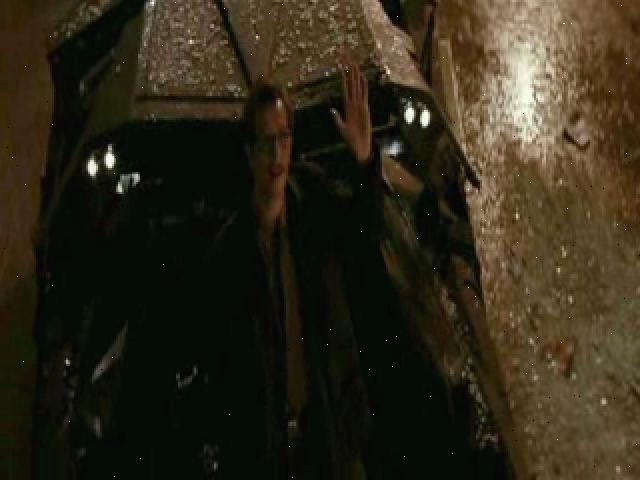L: (79, 75, 383, 480)
